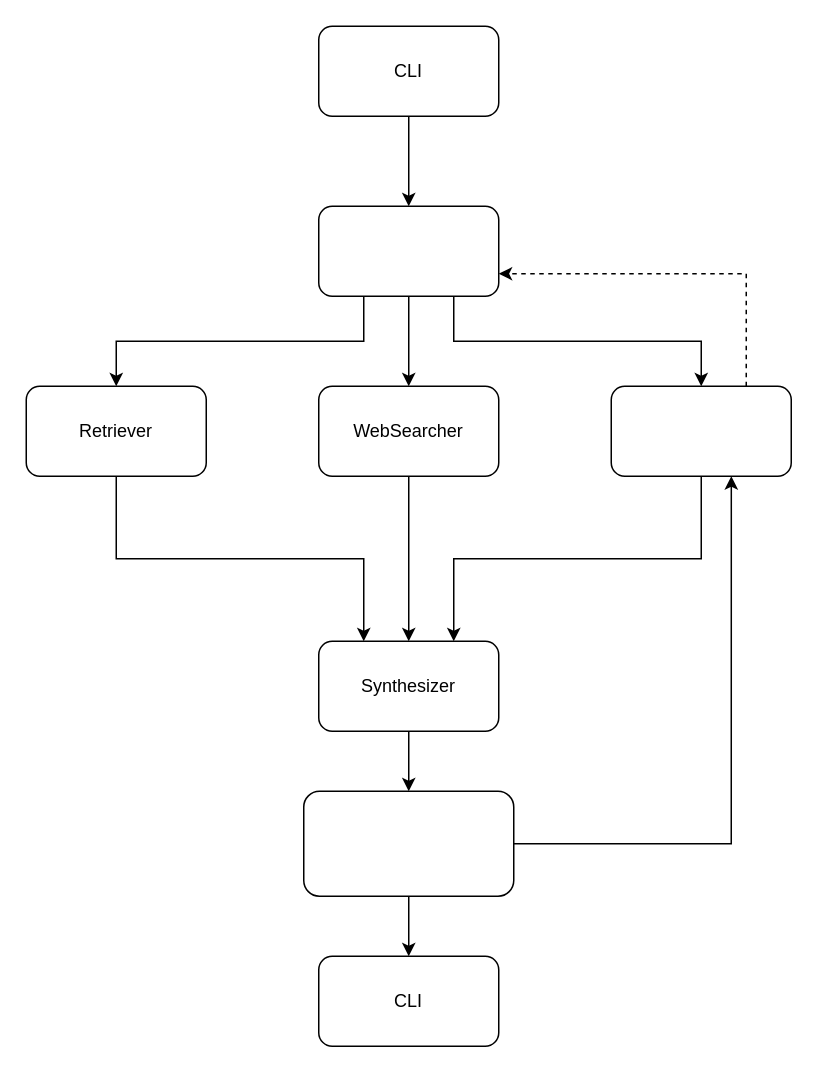
This 818x1073 diagram has some shape labels left out. The shapes that lost their labels are listed below. From the top down, each one's box as (x1, y1, x2, y2) in pixels, then its label:
(317, 205, 499, 296): Crew
(610, 385, 791, 476): Memory
(302, 790, 514, 896): Crew builds response and updates Memory
